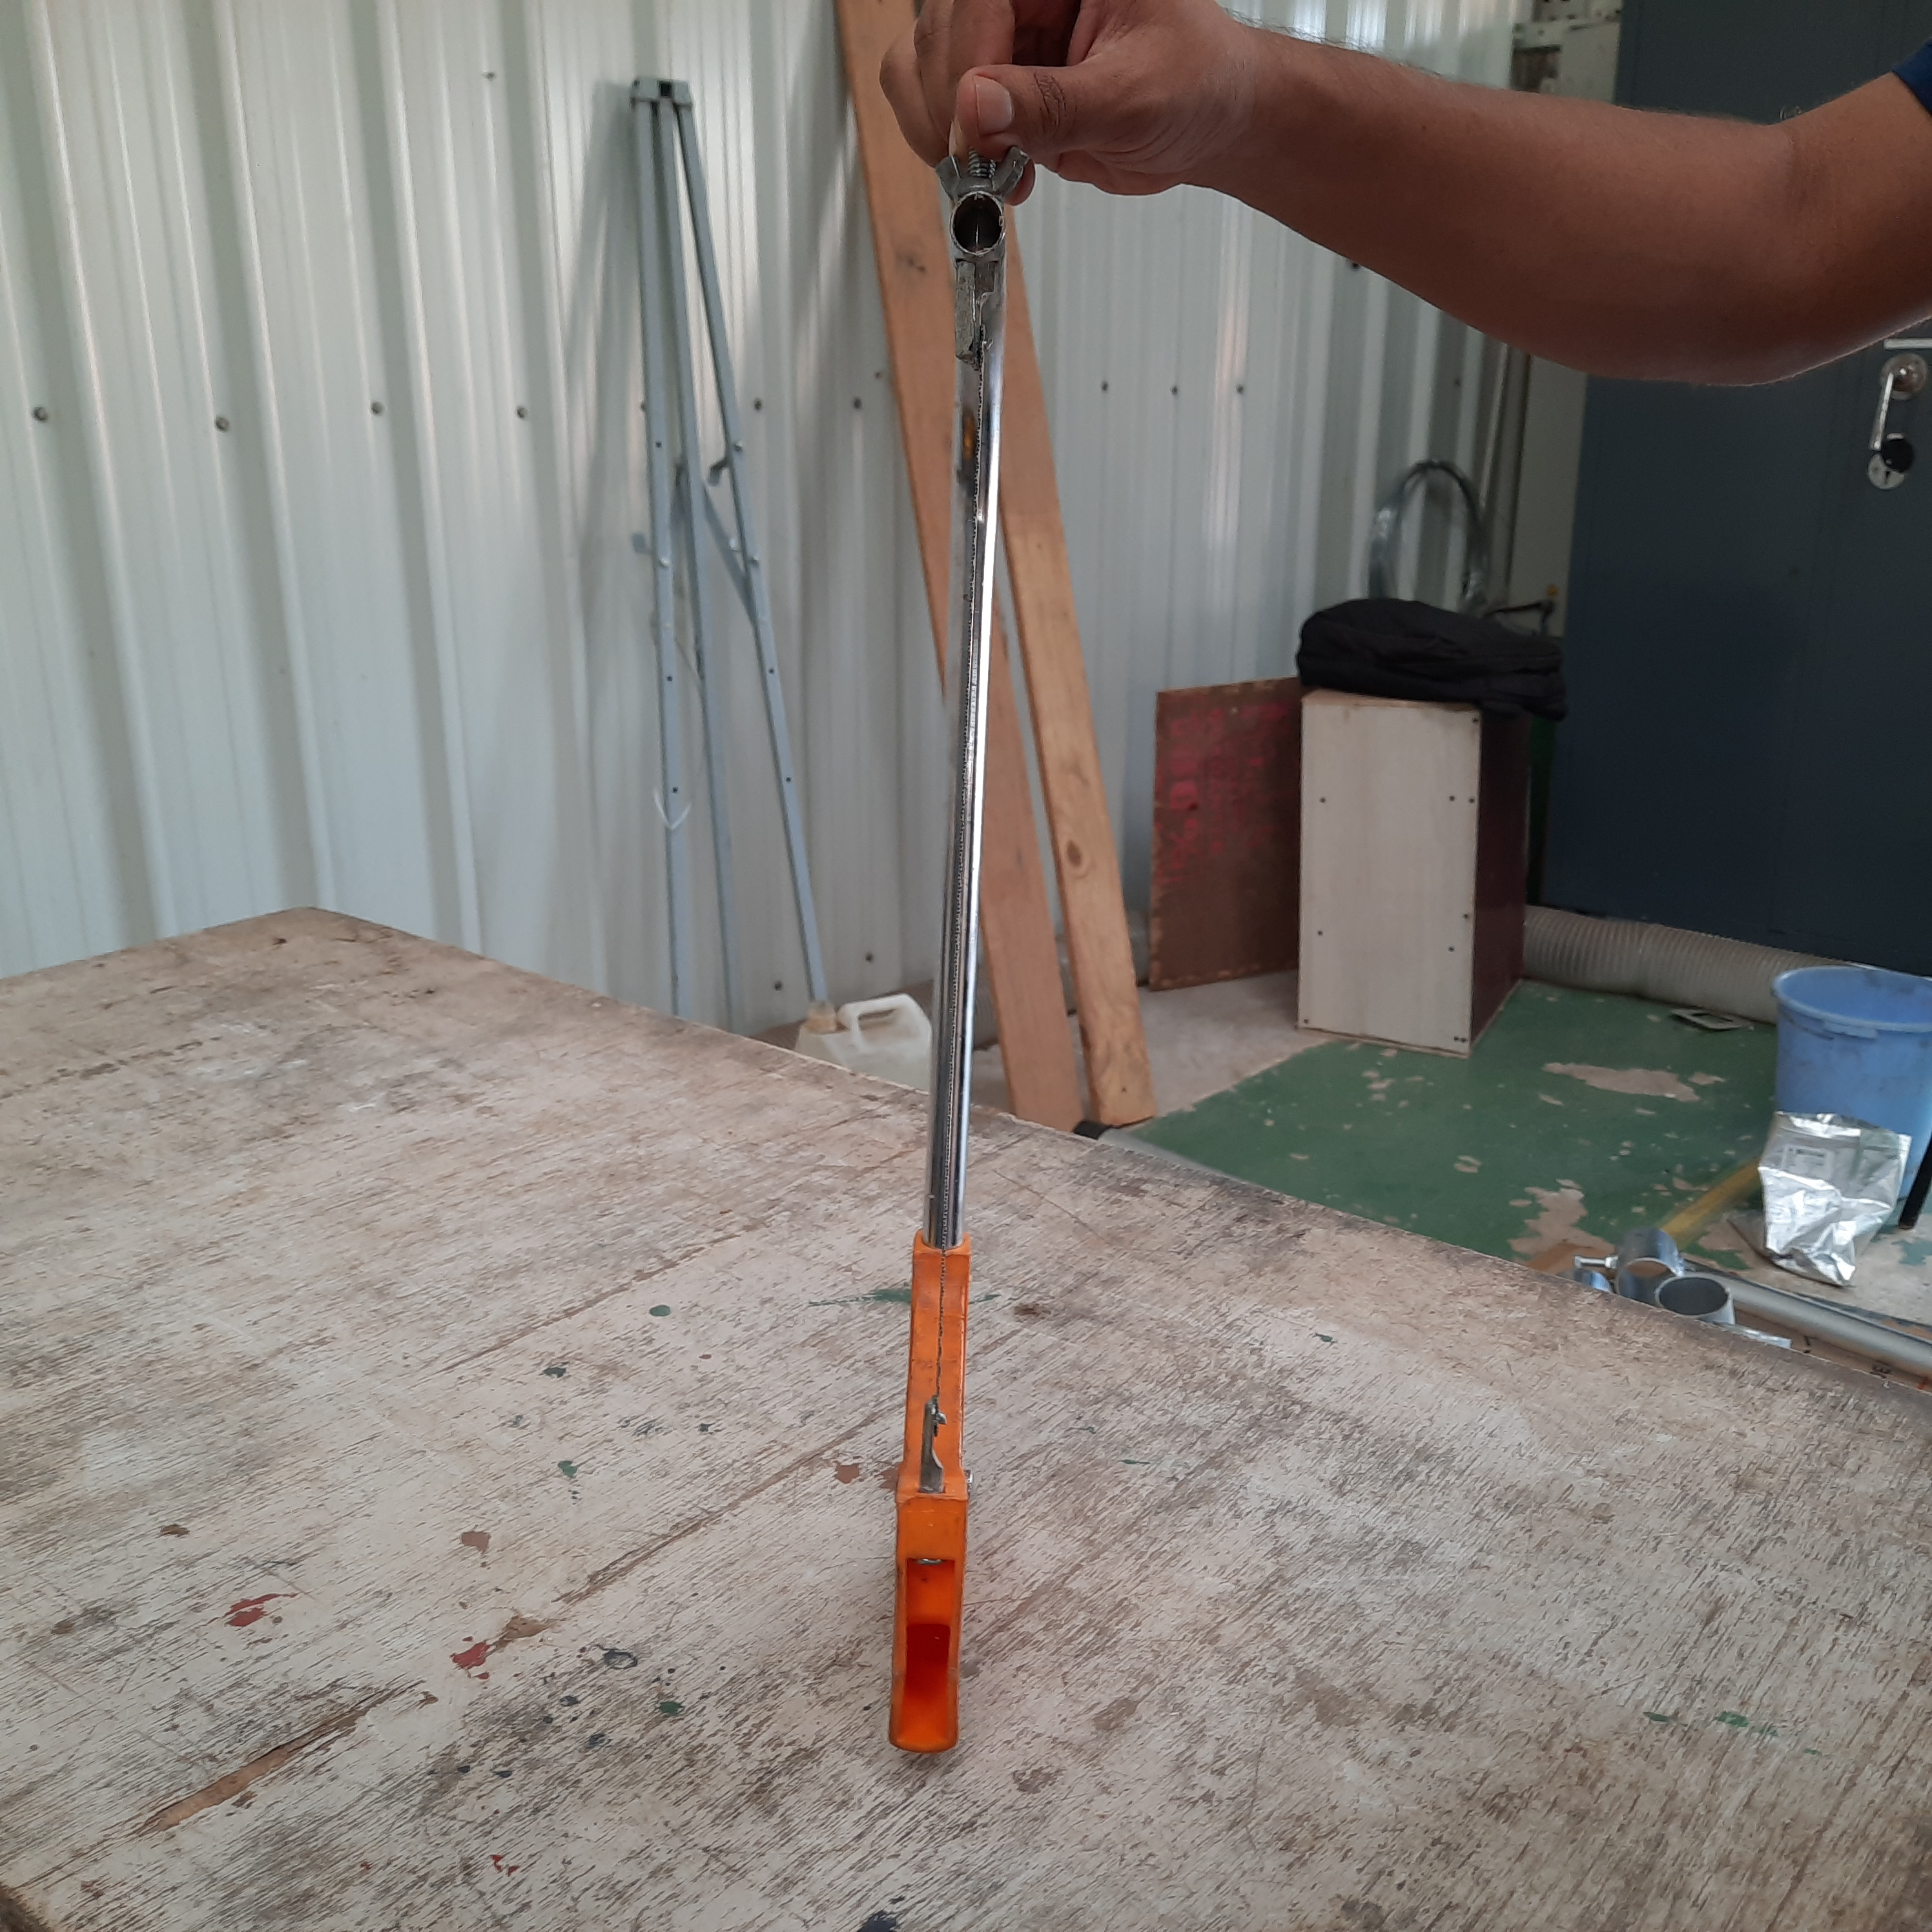Hexaframe: (872, 97, 1088, 1780)
